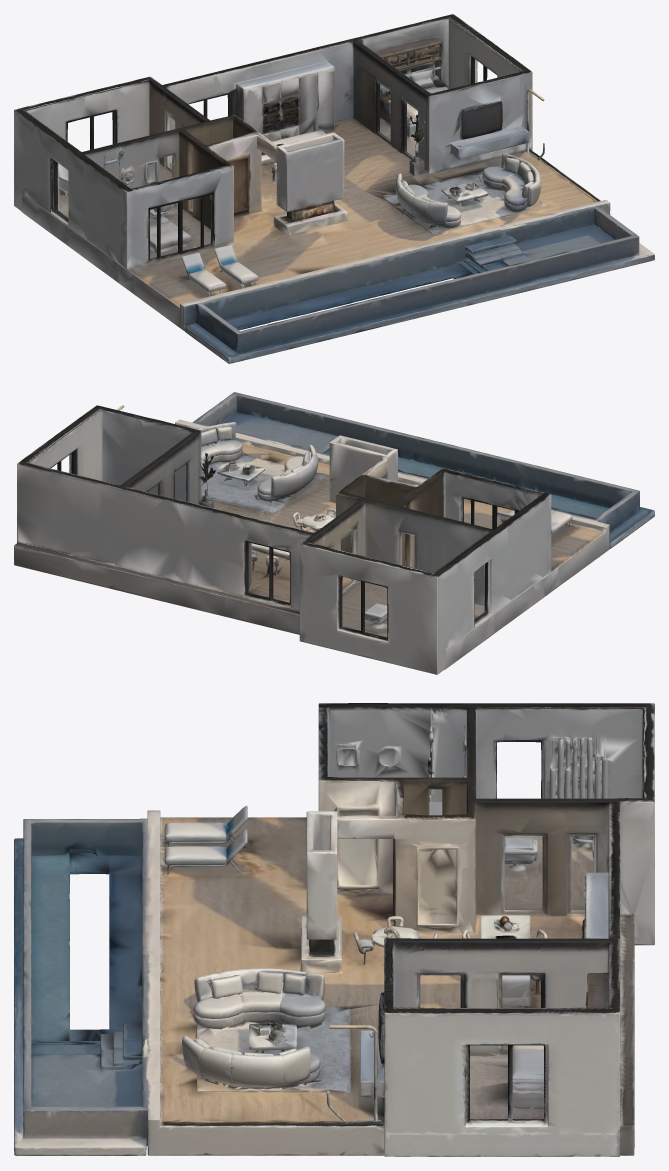
The model's file is villa-maquette.glb.
3 views of the same model, one above another, from view 1: azimuth 30°, elevation 25°; view 2: azimuth 150°, elevation 25°; view 3: azimuth 270°, elevation 25° (orthographic). The views are drawn at different scales.
Parts seen in each view (by area): view 1: tripo_node_d4ad3bd7-f71e-481e-b51c-489ca59edf09; view 2: tripo_node_d4ad3bd7-f71e-481e-b51c-489ca59edf09; view 3: tripo_node_d4ad3bd7-f71e-481e-b51c-489ca59edf09.
Boxes of the visible parts, x1=… form: tripo_node_d4ad3bd7-f71e-481e-b51c-489ca59edf09: x1=14, y1=14, x2=654, y2=363; tripo_node_d4ad3bd7-f71e-481e-b51c-489ca59edf09: x1=14, y1=392, x2=654, y2=674; tripo_node_d4ad3bd7-f71e-481e-b51c-489ca59edf09: x1=14, y1=703, x2=654, y2=1156.
Bounding box in the file's own units: 0.9815 × 0.2225 × 0.855.
1 material, 1 textured.
